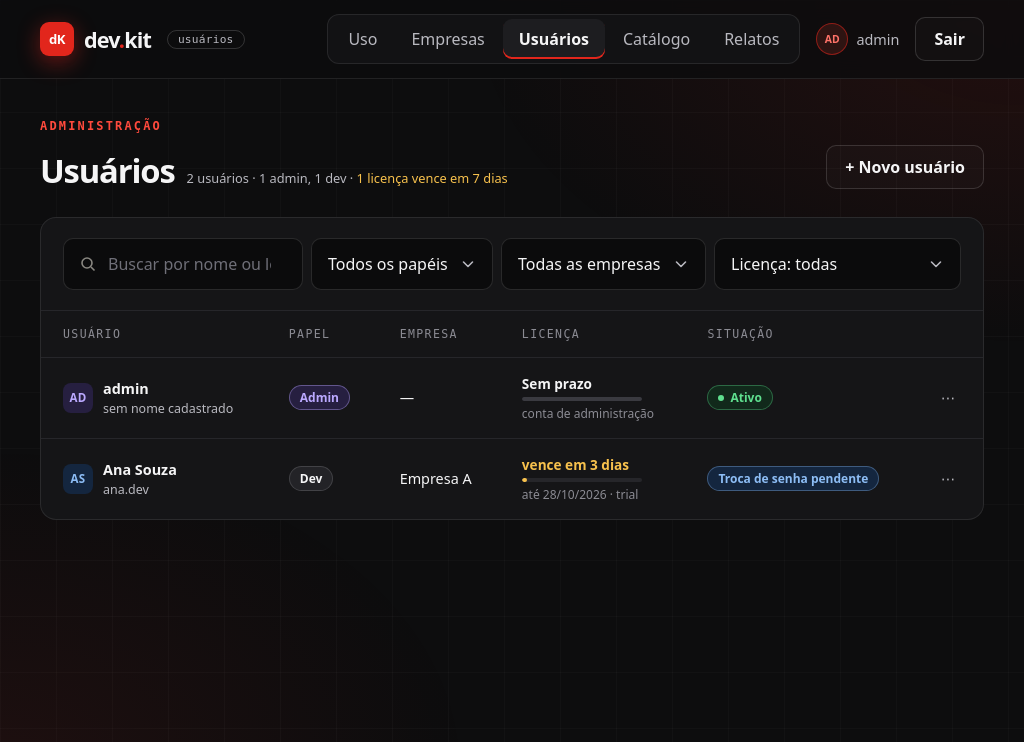
Scenario: Usuários (US #405; visual da US #461) › o gestor sem empresa recebe o erro da API por campo
Click the button "+ Novo usuário" at (905, 167), box left=826, top=145, right=984, bottom=189
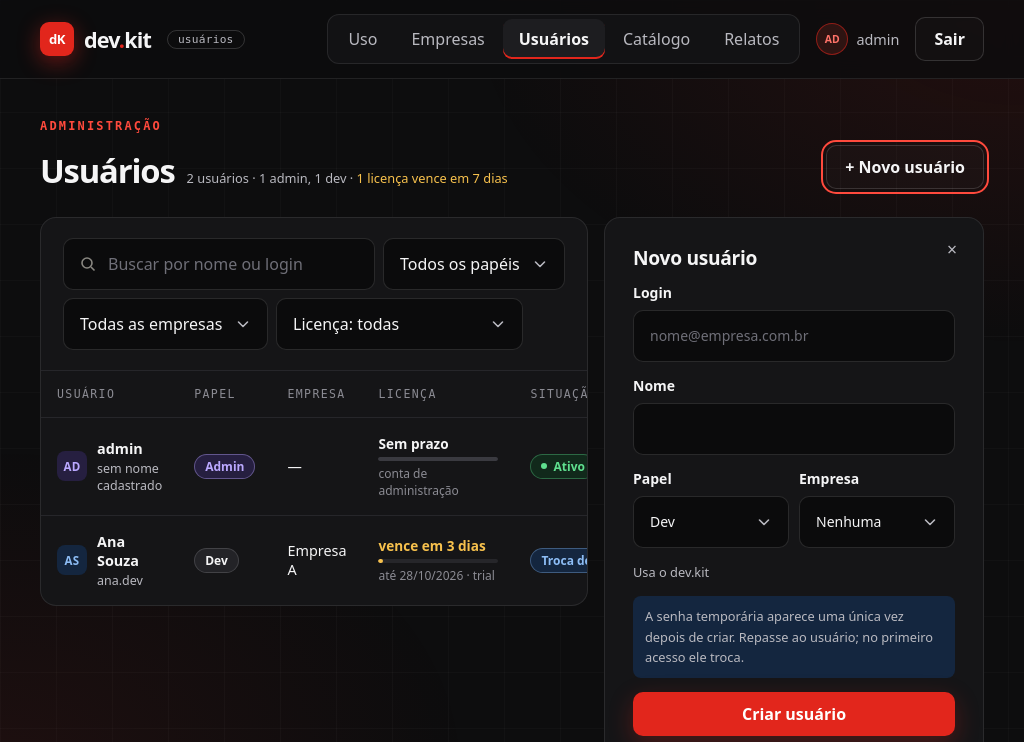
Type "gestor.b" into the field labelled "Login" at (794, 336), box left=633, top=310, right=955, bottom=362
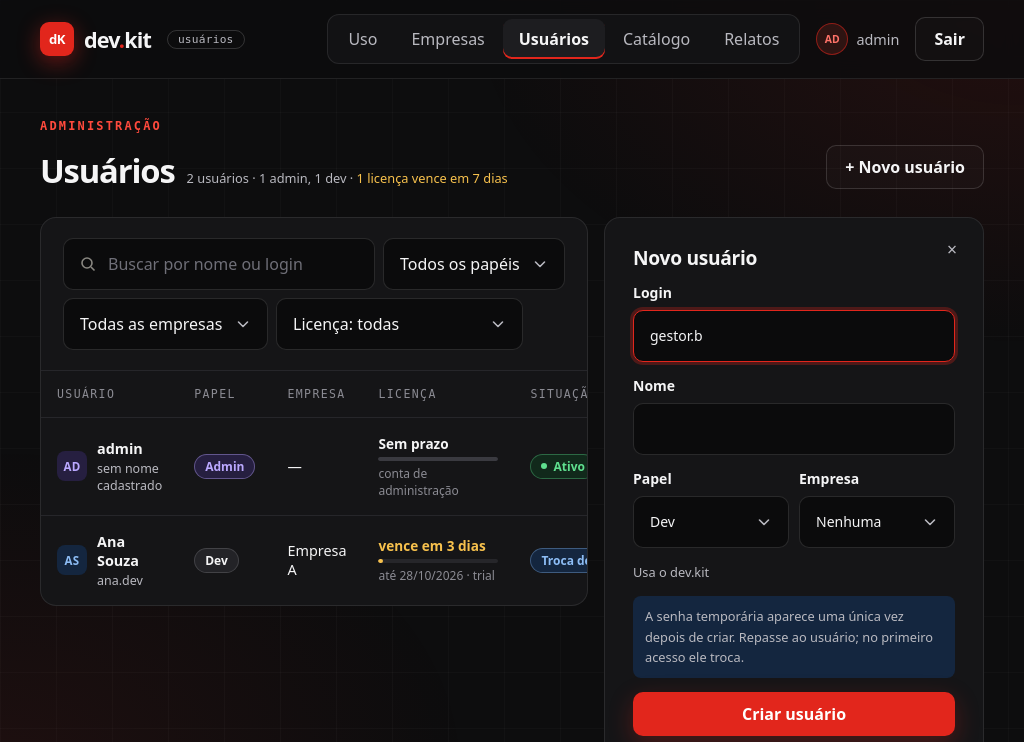
Select "Gestor" in the dropdown labelled "Papel" at (711, 522), box left=633, top=496, right=789, bottom=548
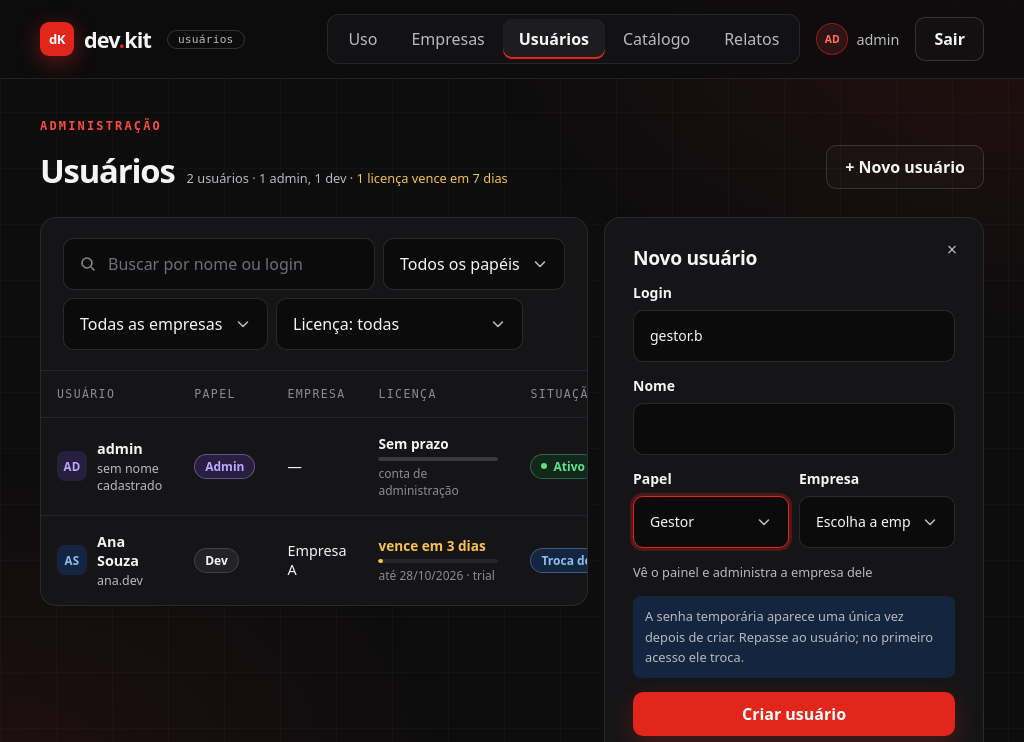
Click the button "Criar usuário" at (794, 714), box left=633, top=692, right=955, bottom=736
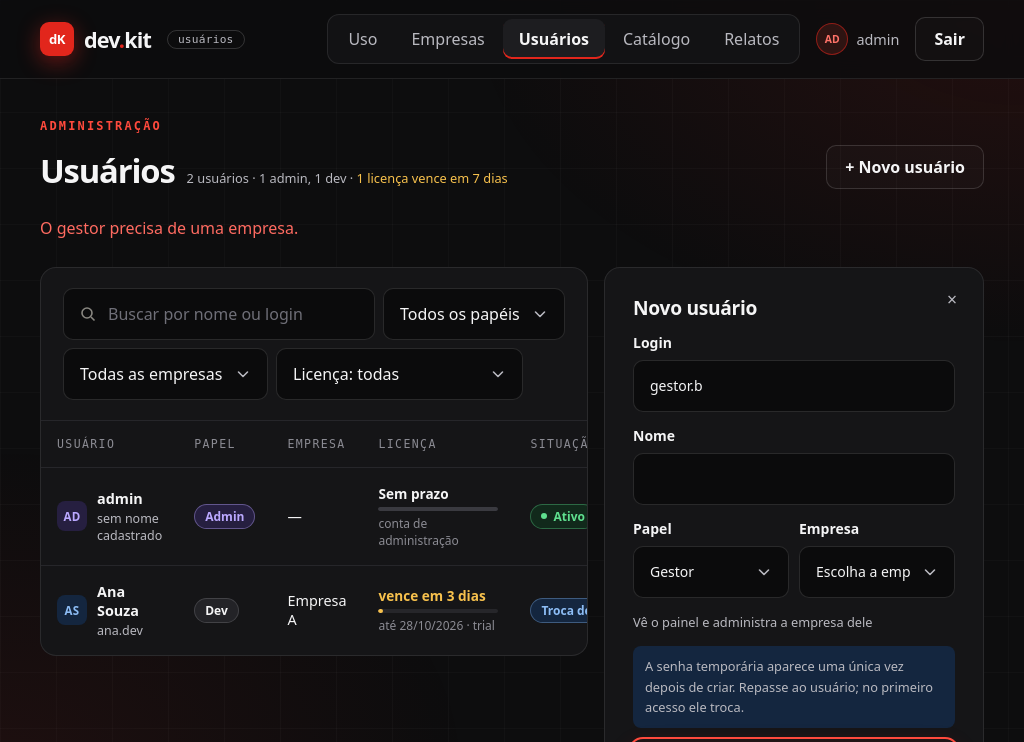
Result: the message reads "O gestor precisa de uma empresa." at left=40, top=217, right=298, bottom=239
